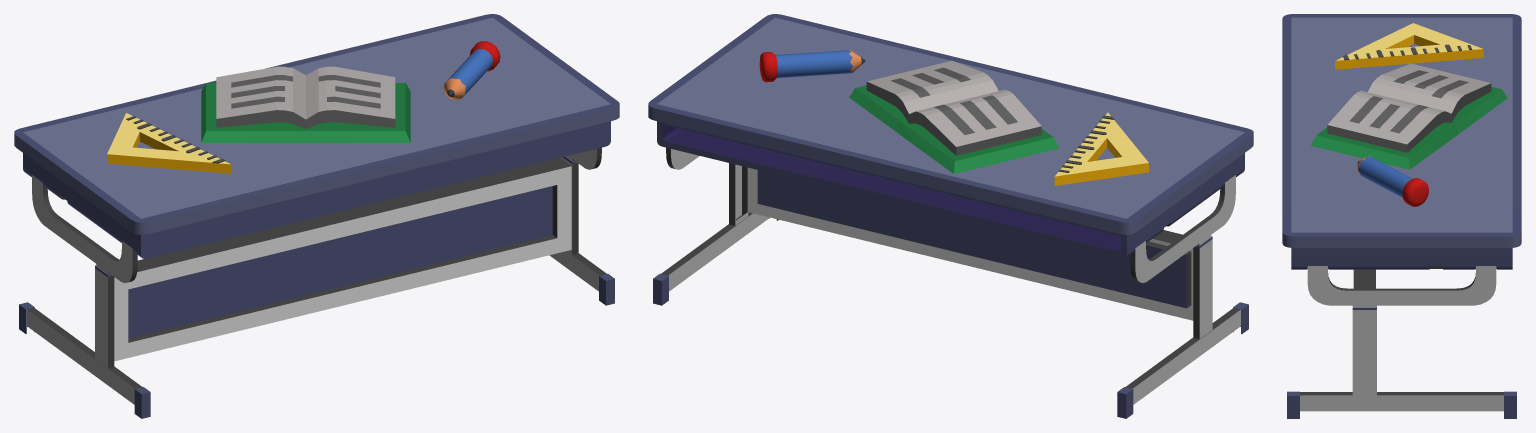
The model's file is Techer Table LEVEL-3-2.fbx.
3 views of the same model, side by side, from view 1: azimuth 30°, elevation 25°; view 2: azimuth 150°, elevation 25°; view 3: azimuth 270°, elevation 25° (orthographic). The views are drawn at different scales.
Parts seen in each view (by area): view 1: Techer Table LEVEL-3-2; view 2: Techer Table LEVEL-3-2; view 3: Techer Table LEVEL-3-2.
Boxes of the visible parts, x1=… form: Techer Table LEVEL-3-2: x1=14, y1=14, x2=619, y2=418; Techer Table LEVEL-3-2: x1=648, y1=14, x2=1253, y2=418; Techer Table LEVEL-3-2: x1=1282, y1=14, x2=1521, y2=418.
Bounding box in the file's own units: 13.99 × 6.23 × 6.36.
